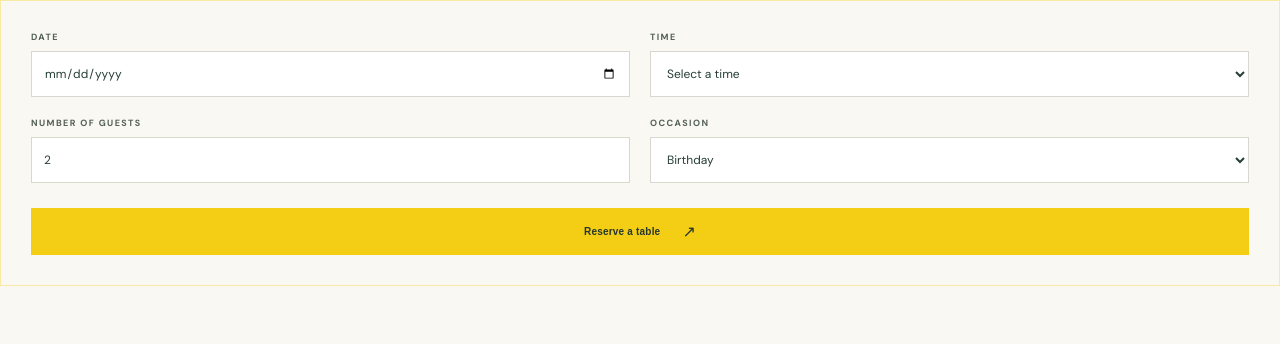
Test: shows validation errors when required values are invalid
The width and height of the screenshot is (1280, 344).
Replace the text in the number field labelled "Number of guests" with "11". click: [330, 160]
box: [31,137,630,183]
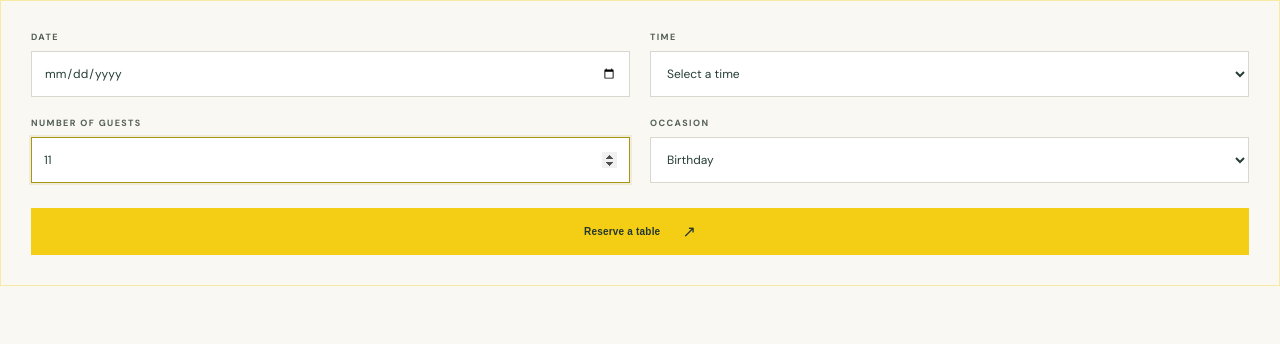
Click the button "Reserve a table ↗". click: [640, 232]
box: [31,208,1249,255]
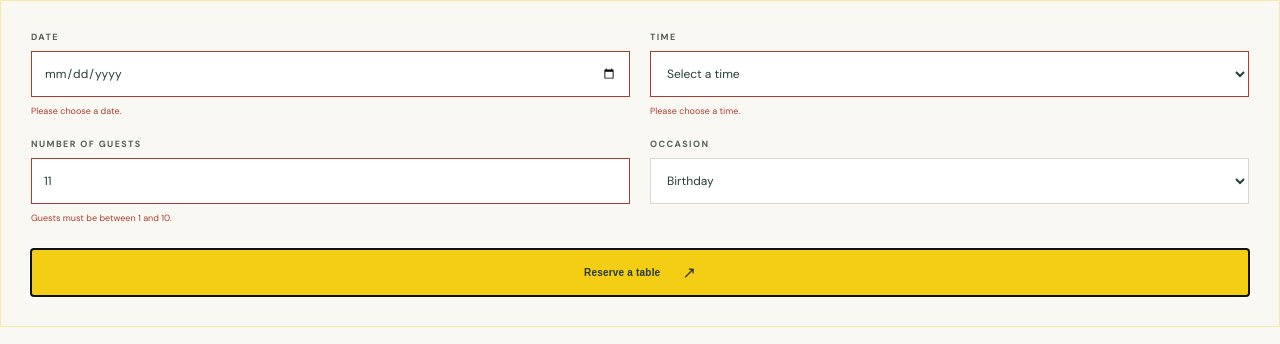
Check: the text "Please choose a date." is shown, box [31,105,121,117]
Check: the text "Please choose a time." is shown, box [650,105,740,117]
Check: the text "Guests must be between 1 and 10." is shown, box [31,212,172,224]
